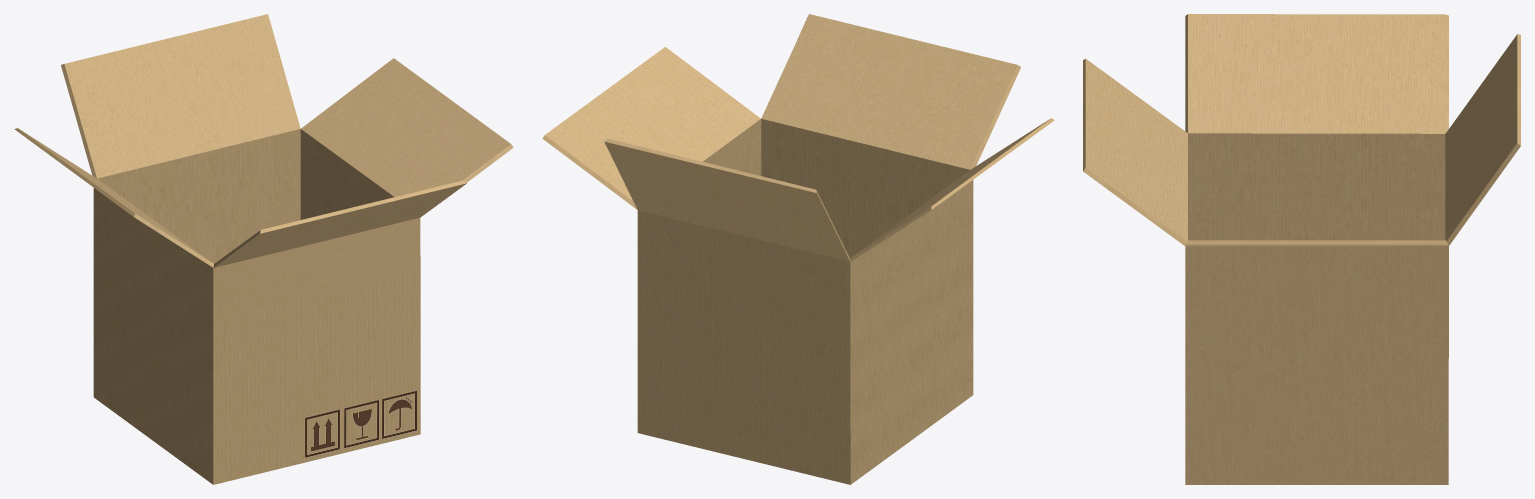
The model's file is carton_box.glb.
3 views of the same model, side by side, from view 1: azimuth 30°, elevation 25°; view 2: azimuth 150°, elevation 25°; view 3: azimuth 270°, elevation 25° (orthographic). The views are drawn at different scales.
Parts seen in each view (by area): view 1: Object_4; view 2: Object_4; view 3: Object_4.
Part boxes in pixels (x1,y1,x2,y2): Object_4: (14, 14, 513, 484); Object_4: (542, 14, 1054, 484); Object_4: (1083, 14, 1520, 484).
Bounding box in the file's own units: 3.66 × 2.86 × 3.33.
Materials: 1 (1 with a texture image).
